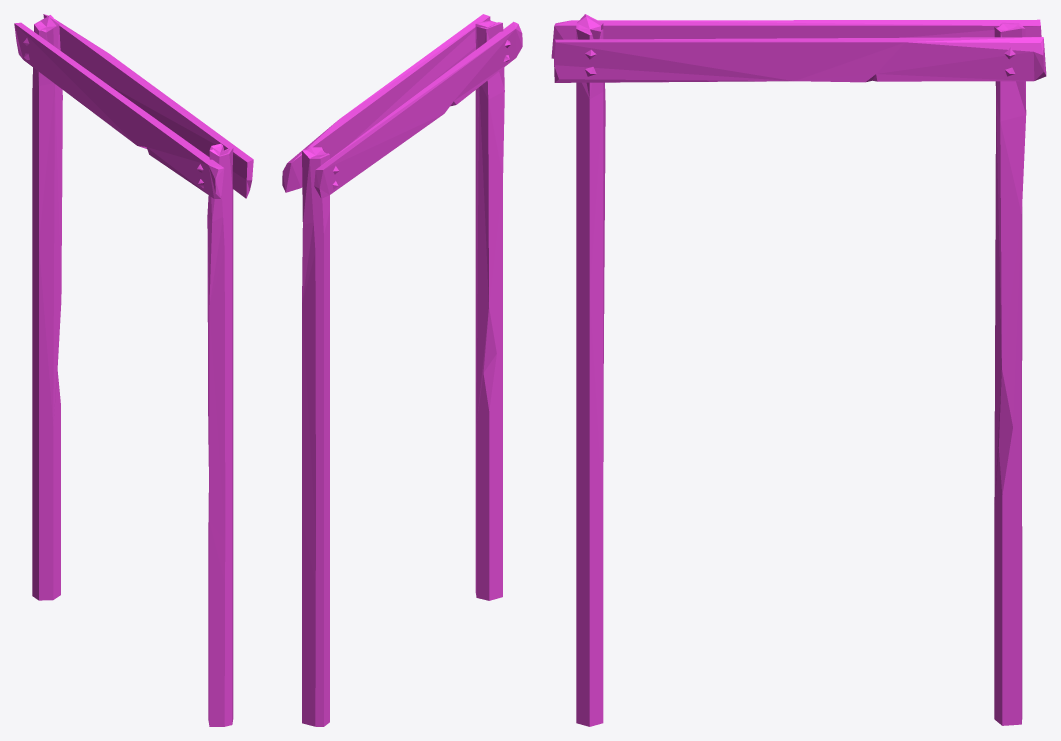
Rendered from SM_Pier_Platform_Pillars_Fantasy.fbx.
3 renders of one model, left to right at view 1: azimuth 30°, elevation 25°; view 2: azimuth 150°, elevation 25°; view 3: azimuth 270°, elevation 25°, orthographic. The views are drawn at different scales.
Visible parts, largest first — view 1: SM_Pier_Platform_Pillars_Fantasy; view 2: SM_Pier_Platform_Pillars_Fantasy; view 3: SM_Pier_Platform_Pillars_Fantasy.
Part boxes in pixels (box(x1,y1,x2,y2)): SM_Pier_Platform_Pillars_Fantasy: box(14, 14, 253, 726); SM_Pier_Platform_Pillars_Fantasy: box(282, 14, 522, 726); SM_Pier_Platform_Pillars_Fantasy: box(551, 14, 1046, 726).
Bounding box in the file's own units: 0.4963 × 5.92 × 3.8.
